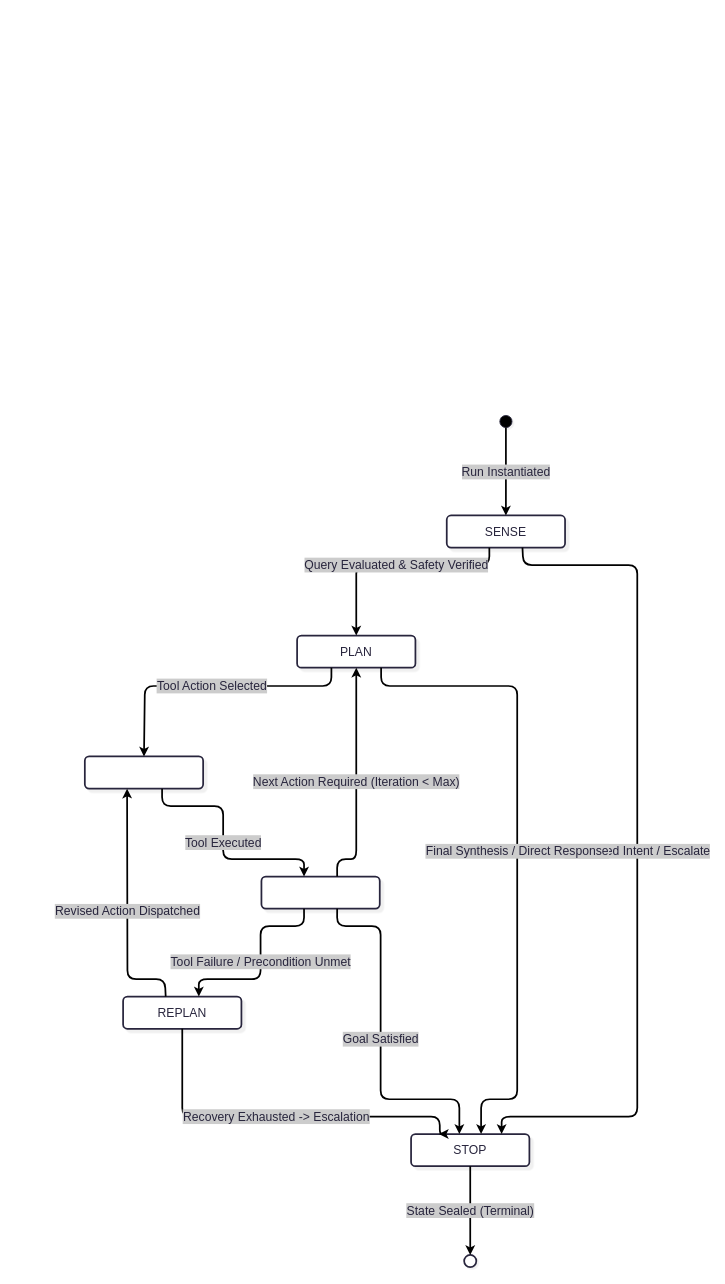
The diagram is 725 pixels wide and 1284 high, and some of its shapes have lost their labels. Here are the shapes that lost their labels. From the top down, the centre of each, then its label:
At (145,774): "ACT".
At (322,894): "OBSERVE".
